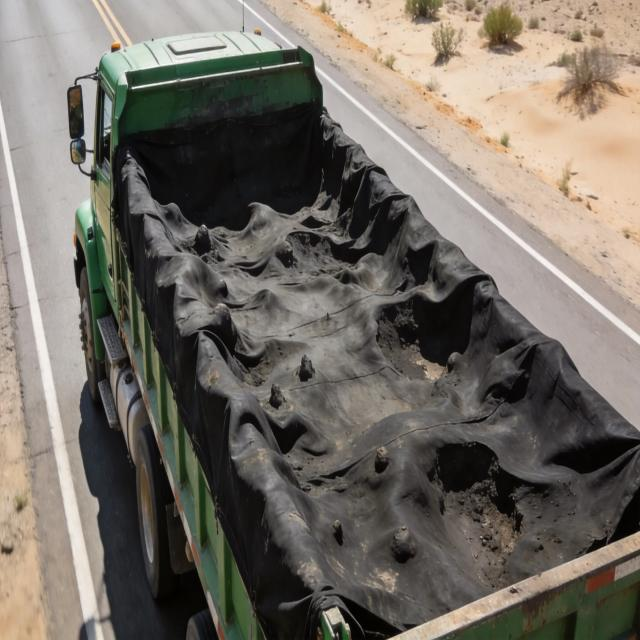trailer: (100, 102, 636, 629)
truck: (59, 25, 640, 640)
